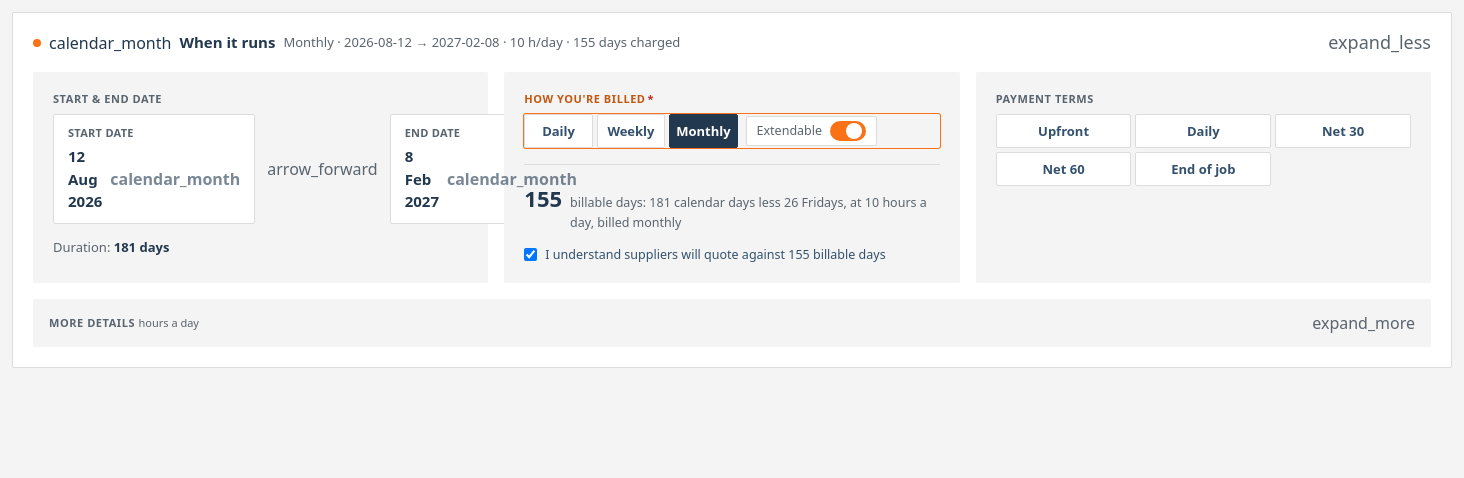
Scenario: hours (MREQ-AC-37) › changing the hours re-asks the acknowledgement, since the sentence quotes them
Click the button "MORE DETAILS hours a day expand_more" at coordinates (92, 322), box [33,299,1431,347]
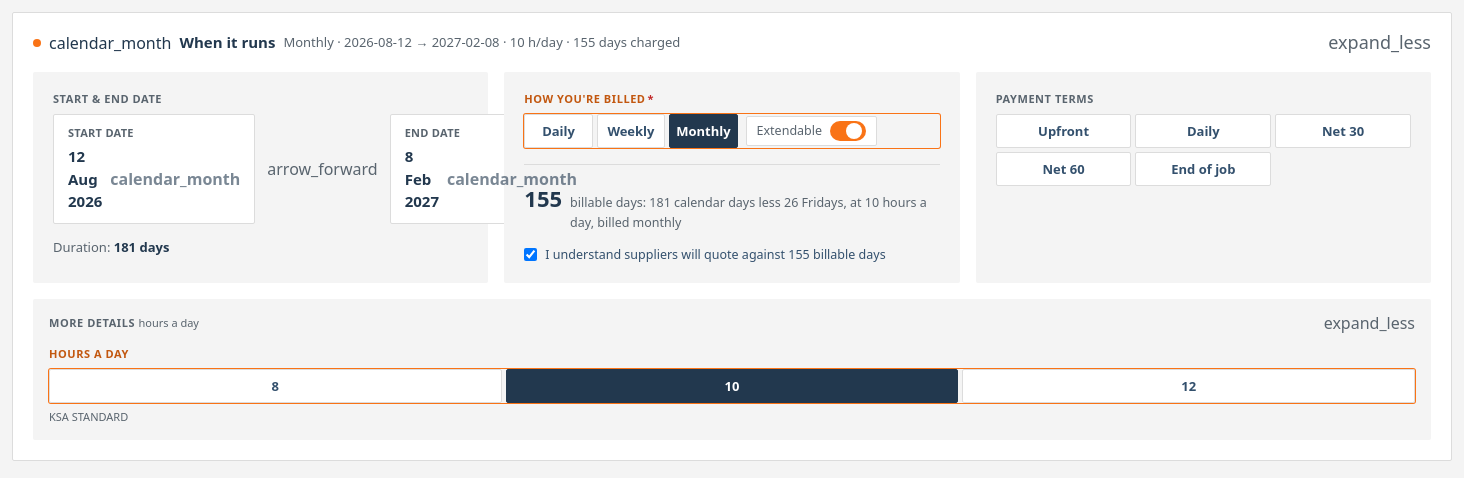
Click the button "12" at coordinates (1189, 386), box [962,369,1415,403]
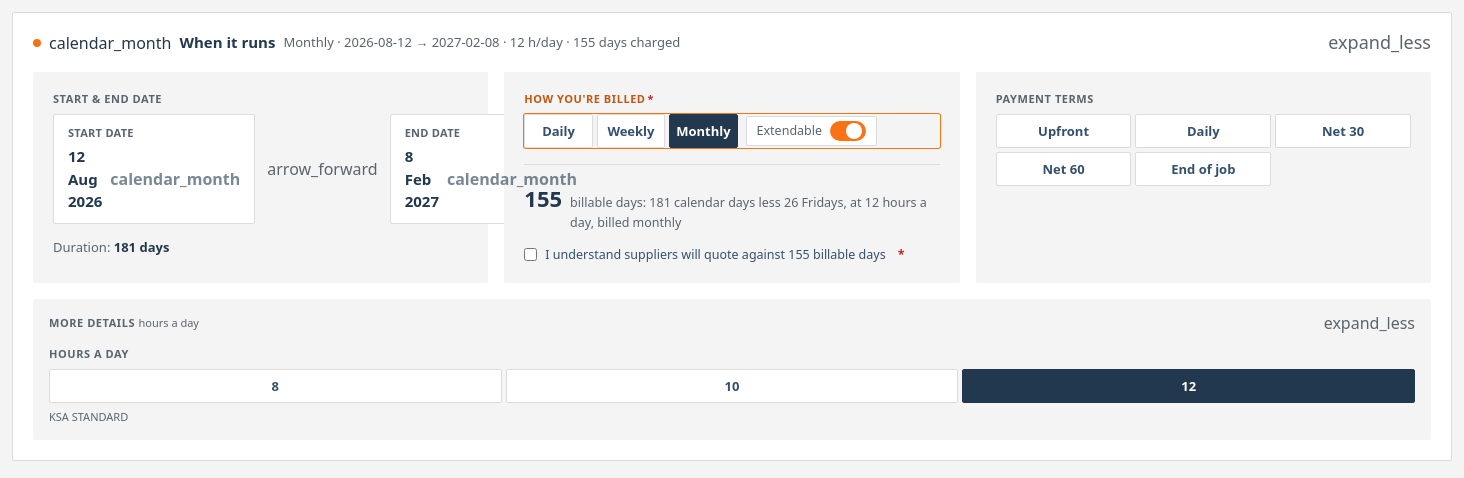
Now the text "at 12 hours a day" is shown, box [570,194,927,231]
